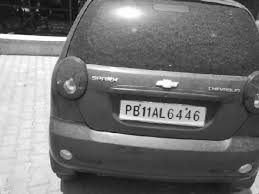numberplate: (120, 99, 207, 127)
